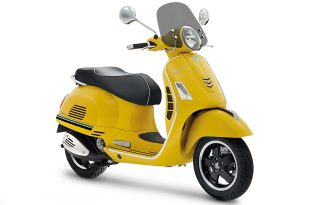motorcycle: (57, 24, 254, 199)
